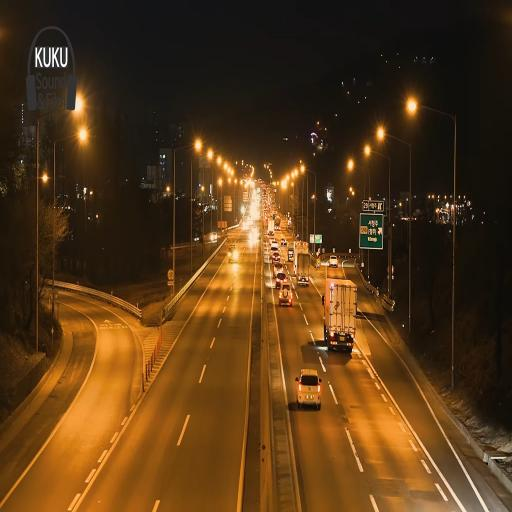car: (297, 364, 323, 412)
truck: (322, 273, 360, 359)
